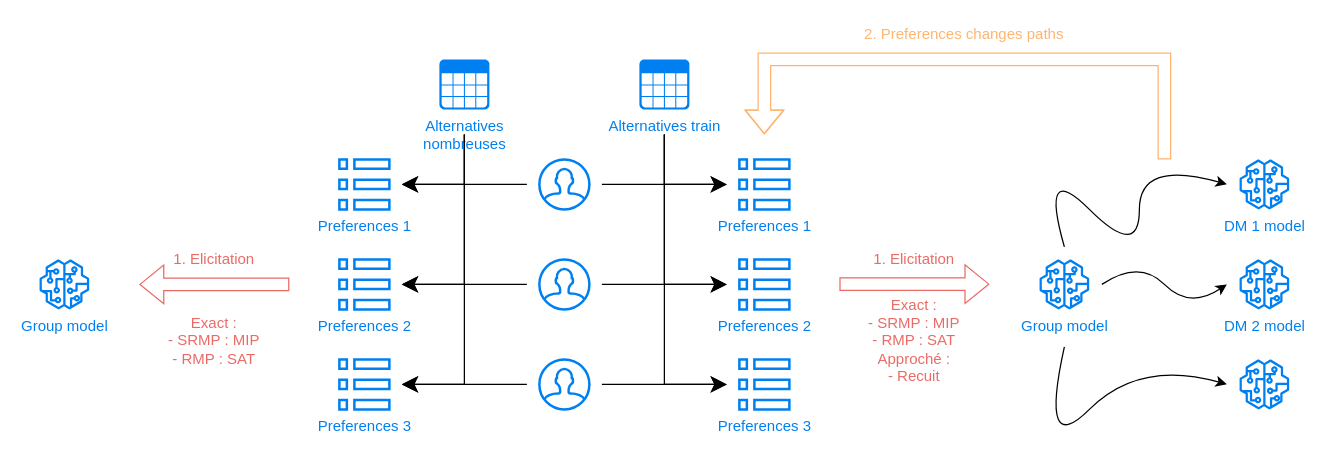
The diagram is 1326 pixels wide and 456 high, and some of its shapes have lost their labels. The shapes that lost their labels are listed below. From the top down, each one's centre as x and y in pixels, then its label:
the point at 564,184: DM 1
the point at 564,284: DM 2
the point at 564,384: DM 3
the point at 1264,384: DM 3 model
